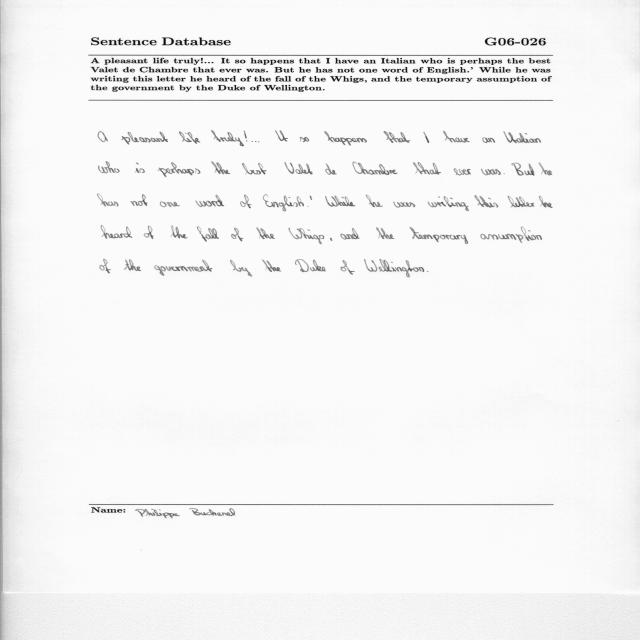word: (364, 260, 424, 278), (480, 227, 542, 243), (410, 227, 468, 244), (154, 260, 212, 276), (263, 195, 304, 212), (157, 163, 201, 178), (324, 131, 367, 146), (427, 196, 469, 211), (121, 132, 168, 145), (353, 162, 398, 175), (289, 228, 325, 244), (211, 131, 244, 147), (504, 131, 541, 143), (102, 226, 133, 239), (295, 259, 326, 272), (230, 260, 253, 277), (197, 226, 219, 242), (196, 195, 225, 207), (285, 162, 313, 174), (413, 162, 441, 174), (325, 196, 355, 207), (384, 131, 411, 143), (443, 131, 470, 143), (475, 195, 499, 208), (512, 163, 535, 176), (508, 196, 535, 207), (179, 131, 200, 144), (242, 163, 266, 174), (98, 194, 119, 206), (262, 259, 281, 272), (211, 162, 231, 174), (170, 226, 188, 239), (99, 162, 120, 173), (256, 228, 275, 240), (341, 228, 360, 240), (376, 227, 395, 239), (341, 260, 355, 275), (131, 194, 148, 206), (366, 195, 383, 207), (124, 259, 141, 271), (539, 163, 553, 176), (240, 195, 252, 209), (539, 196, 553, 208), (231, 228, 243, 241), (100, 260, 111, 274), (275, 131, 288, 142), (325, 164, 337, 175), (394, 202, 416, 208), (144, 226, 154, 239), (244, 130, 254, 142), (481, 169, 501, 175), (160, 202, 180, 208), (454, 169, 471, 176), (98, 131, 108, 142), (135, 163, 145, 173), (482, 137, 495, 143), (424, 132, 430, 143), (300, 137, 309, 142), (330, 237, 333, 241), (310, 196, 312, 200), (255, 141, 260, 142), (503, 174, 505, 175), (307, 206, 309, 207), (427, 271, 429, 272)
